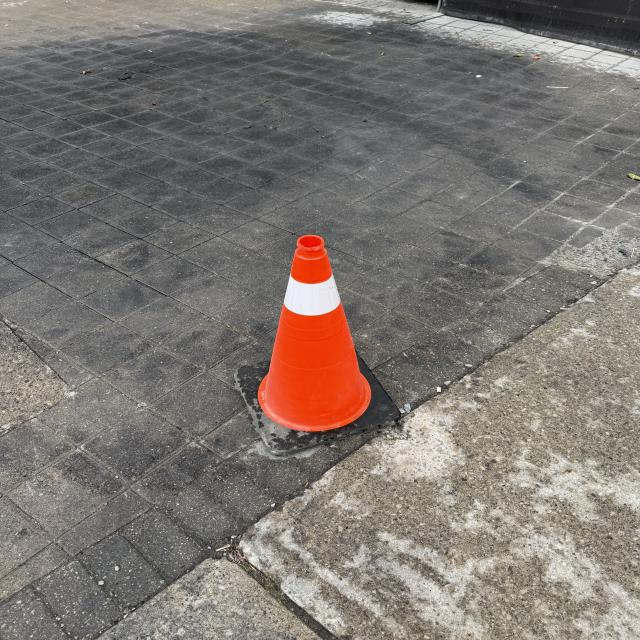Traffic Cone: (235, 235, 401, 454)
